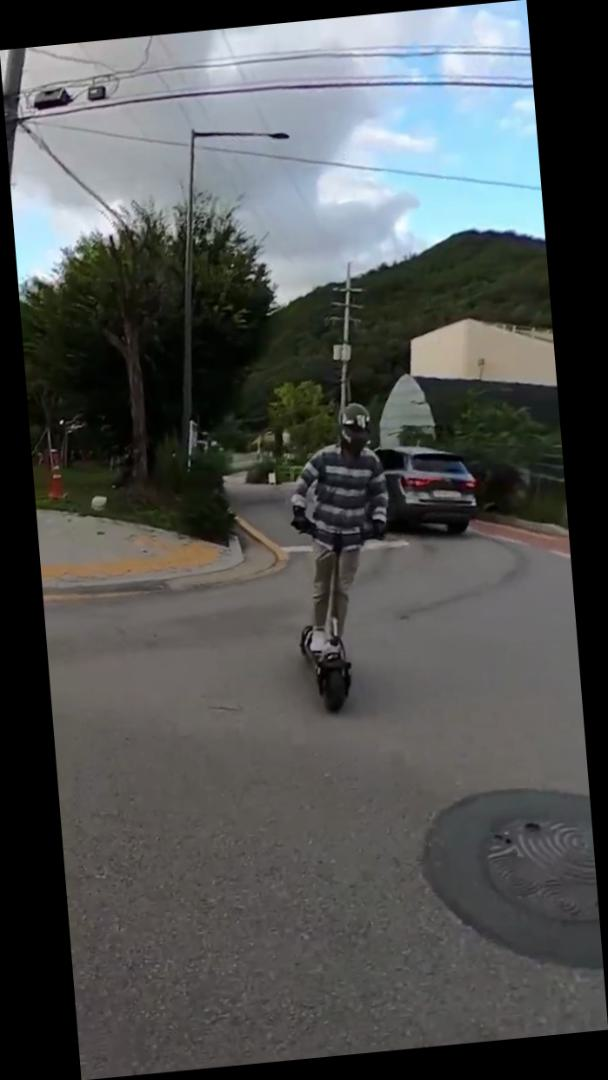helmet: (276, 396, 409, 717)
